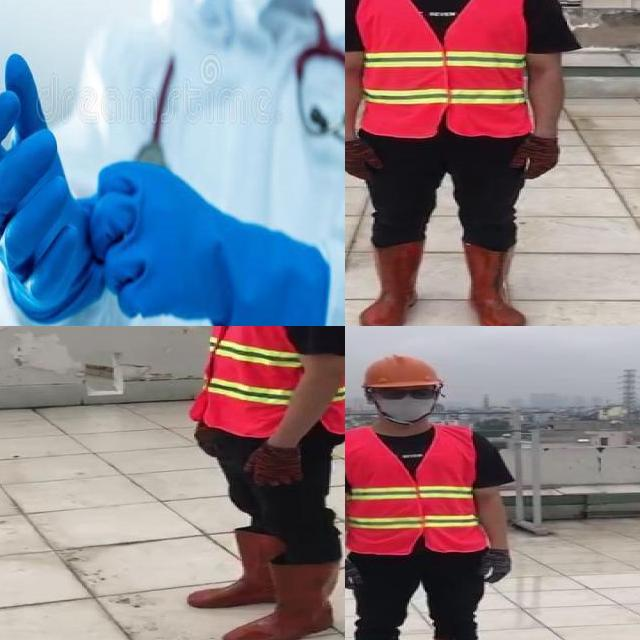BOOTS: (221, 560, 339, 640), (189, 529, 287, 610), (459, 241, 530, 326), (361, 243, 418, 326)
GLASS: (372, 387, 436, 402)
GLOVE: (0, 27, 102, 326), (236, 441, 307, 493), (510, 130, 564, 185), (345, 137, 386, 184), (478, 548, 513, 582), (345, 557, 364, 589)
HELMET: (358, 353, 443, 390)
VEST: (347, 0, 530, 137), (345, 423, 489, 556), (194, 326, 345, 439)
